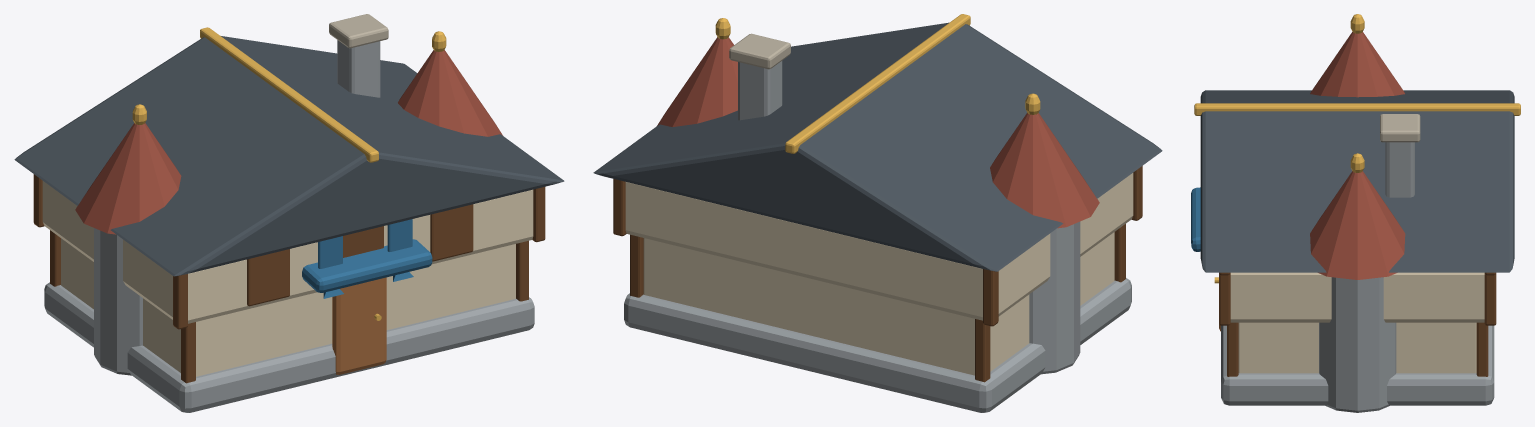
The model's file is RF_Building_GuildHall_V2.fbx.
3 views of the same model, side by side, from view 1: azimuth 30°, elevation 25°; view 2: azimuth 150°, elevation 25°; view 3: azimuth 270°, elevation 25° (orthographic). The views are drawn at different scales.
Visible parts, largest first — view 1: Guild_Roof.001, Guild_Lower.001, Guild_Foundation.001, Guild_Upper.001, Guild_TurretRoof.002, Guild_Turret.002, Guild_TurretRoof.003, Guild_Door.001, Guild_Canopy.001, Guild_Ridge.001, Guild_Stack.001, Guild_Frame.004 (+11 smaller); view 2: Guild_Roof.001, Guild_Upper.001, Guild_Lower.001, Guild_Foundation.001, Guild_TurretRoof.002, Guild_Turret.002, Guild_TurretRoof.003, Guild_Ridge.001, Guild_Stack.001, Guild_Cap.001, Guild_Post.013, Guild_Post.009 (+4 smaller); view 3: Guild_Roof.001, Guild_Upper.001, Guild_Turret.003, Guild_Lower.001, Guild_Foundation.001, Guild_TurretRoof.003, Guild_TurretRoof.002, Guild_Ridge.001, Guild_Stack.001, Guild_Cap.001, Guild_Post.015, Guild_Post.011 (+3 smaller).
Boxes of the visible parts, box(x1,y1,x2,y2) form: Guild_Roof.001: box(14, 36, 564, 276); Guild_Lower.001: box(61, 238, 515, 376); Guild_Foundation.001: box(44, 282, 534, 412); Guild_Upper.001: box(42, 181, 533, 323); Guild_TurretRoof.002: box(75, 123, 181, 234); Guild_Turret.002: box(94, 228, 142, 375); Guild_TurretRoof.003: box(398, 50, 502, 136); Guild_Door.001: box(332, 277, 386, 374); Guild_Canopy.001: box(302, 239, 432, 292); Guild_Ridge.001: box(200, 27, 378, 162); Guild_Stack.001: box(337, 40, 380, 97); Guild_Frame.004: box(430, 204, 473, 261); Guild_Roof.001: box(593, 22, 1162, 271); Guild_Upper.001: box(625, 173, 1133, 320); Guild_Lower.001: box(643, 232, 1114, 375); Guild_Foundation.001: box(624, 278, 1131, 412); Guild_TurretRoof.002: box(990, 113, 1099, 228); Guild_Turret.002: box(1029, 221, 1080, 374); Guild_TurretRoof.003: box(657, 37, 737, 127); Guild_Ridge.001: box(785, 14, 970, 153); Guild_Stack.001: box(738, 61, 782, 120); Guild_Cap.001: box(729, 33, 790, 69); Guild_Post.013: box(975, 319, 990, 382); Guild_Post.009: box(983, 269, 998, 326); Guild_Roof.001: box(1200, 90, 1514, 272); Guild_Upper.001: box(1230, 272, 1484, 322); Guild_Turret.003: box(1319, 277, 1396, 412); Guild_Lower.001: box(1238, 322, 1476, 373); Guild_Foundation.001: box(1221, 325, 1494, 405); Guild_TurretRoof.003: box(1310, 171, 1405, 279); Guild_TurretRoof.002: box(1310, 32, 1404, 97); Guild_Ridge.001: box(1194, 103, 1520, 115); Guild_Stack.001: box(1385, 142, 1414, 197); Guild_Cap.001: box(1380, 114, 1420, 142); Guild_Post.015: box(1476, 322, 1488, 376); Guild_Post.011: box(1484, 273, 1496, 325).
Bounding box in the file's own units: 8.52 × 6.2 × 5.12.
